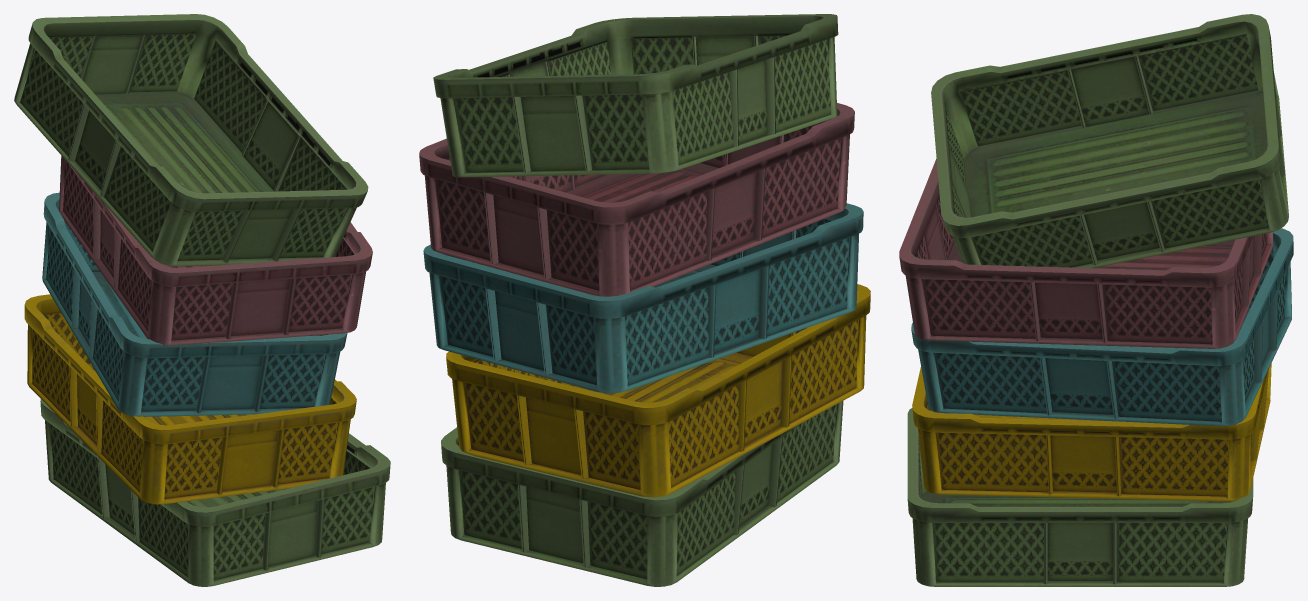
Rendered from 133_PlasticTray.fbx.
3 renders of one model, left to right at view 1: azimuth 30°, elevation 25°; view 2: azimuth 150°, elevation 25°; view 3: azimuth 270°, elevation 25°, orthographic. The views are drawn at different scales.
Parts seen in each view (by area): view 1: LOD_1_Group_4_Sub_1__sm30_133_PlasticTray01A_B_Mat, LOD_1_Group_1_Sub_1__sm30_133_PlasticTray01A_B_Mat, LOD_1_Group_0_Sub_1__sm30_133_PlasticTray01A_B_Mat, LOD_1_Group_2_Sub_1__sm30_133_PlasticTray01A_B_Mat, LOD_1_Group_3_Sub_1__sm30_133_PlasticTray01A_B_Mat; view 2: LOD_1_Group_4_Sub_1__sm30_133_PlasticTray01A_B_Mat, LOD_1_Group_3_Sub_1__sm30_133_PlasticTray01A_B_Mat, LOD_1_Group_2_Sub_1__sm30_133_PlasticTray01A_B_Mat, LOD_1_Group_1_Sub_1__sm30_133_PlasticTray01A_B_Mat, LOD_1_Group_0_Sub_1__sm30_133_PlasticTray01A_B_Mat; view 3: LOD_1_Group_4_Sub_1__sm30_133_PlasticTray01A_B_Mat, LOD_1_Group_3_Sub_1__sm30_133_PlasticTray01A_B_Mat, LOD_1_Group_0_Sub_1__sm30_133_PlasticTray01A_B_Mat, LOD_1_Group_2_Sub_1__sm30_133_PlasticTray01A_B_Mat, LOD_1_Group_1_Sub_1__sm30_133_PlasticTray01A_B_Mat.
Boxes of the visible parts, x1,y1,x2,y2 form: LOD_1_Group_4_Sub_1__sm30_133_PlasticTray01A_B_Mat: (14,14,368,266); LOD_1_Group_1_Sub_1__sm30_133_PlasticTray01A_B_Mat: (24,294,356,504); LOD_1_Group_0_Sub_1__sm30_133_PlasticTray01A_B_Mat: (40,399,390,586); LOD_1_Group_2_Sub_1__sm30_133_PlasticTray01A_B_Mat: (42,192,347,416); LOD_1_Group_3_Sub_1__sm30_133_PlasticTray01A_B_Mat: (59,156,372,345); LOD_1_Group_4_Sub_1__sm30_133_PlasticTray01A_B_Mat: (433,14,838,177); LOD_1_Group_3_Sub_1__sm30_133_PlasticTray01A_B_Mat: (419,103,854,296); LOD_1_Group_2_Sub_1__sm30_133_PlasticTray01A_B_Mat: (423,203,863,393); LOD_1_Group_1_Sub_1__sm30_133_PlasticTray01A_B_Mat: (446,284,870,497); LOD_1_Group_0_Sub_1__sm30_133_PlasticTray01A_B_Mat: (441,401,843,586); LOD_1_Group_4_Sub_1__sm30_133_PlasticTray01A_B_Mat: (931,14,1288,268); LOD_1_Group_3_Sub_1__sm30_133_PlasticTray01A_B_Mat: (899,158,1272,348); LOD_1_Group_0_Sub_1__sm30_133_PlasticTray01A_B_Mat: (907,408,1253,586); LOD_1_Group_2_Sub_1__sm30_133_PlasticTray01A_B_Mat: (911,228,1293,426); LOD_1_Group_1_Sub_1__sm30_133_PlasticTray01A_B_Mat: (912,363,1271,501).
Size of the model in its own units: 0.7188 by 1.16 by 0.8789.
